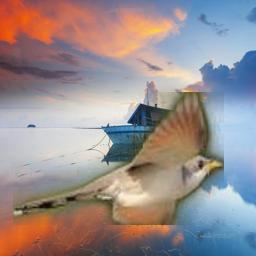Cuckoo: (13, 92, 224, 225)
